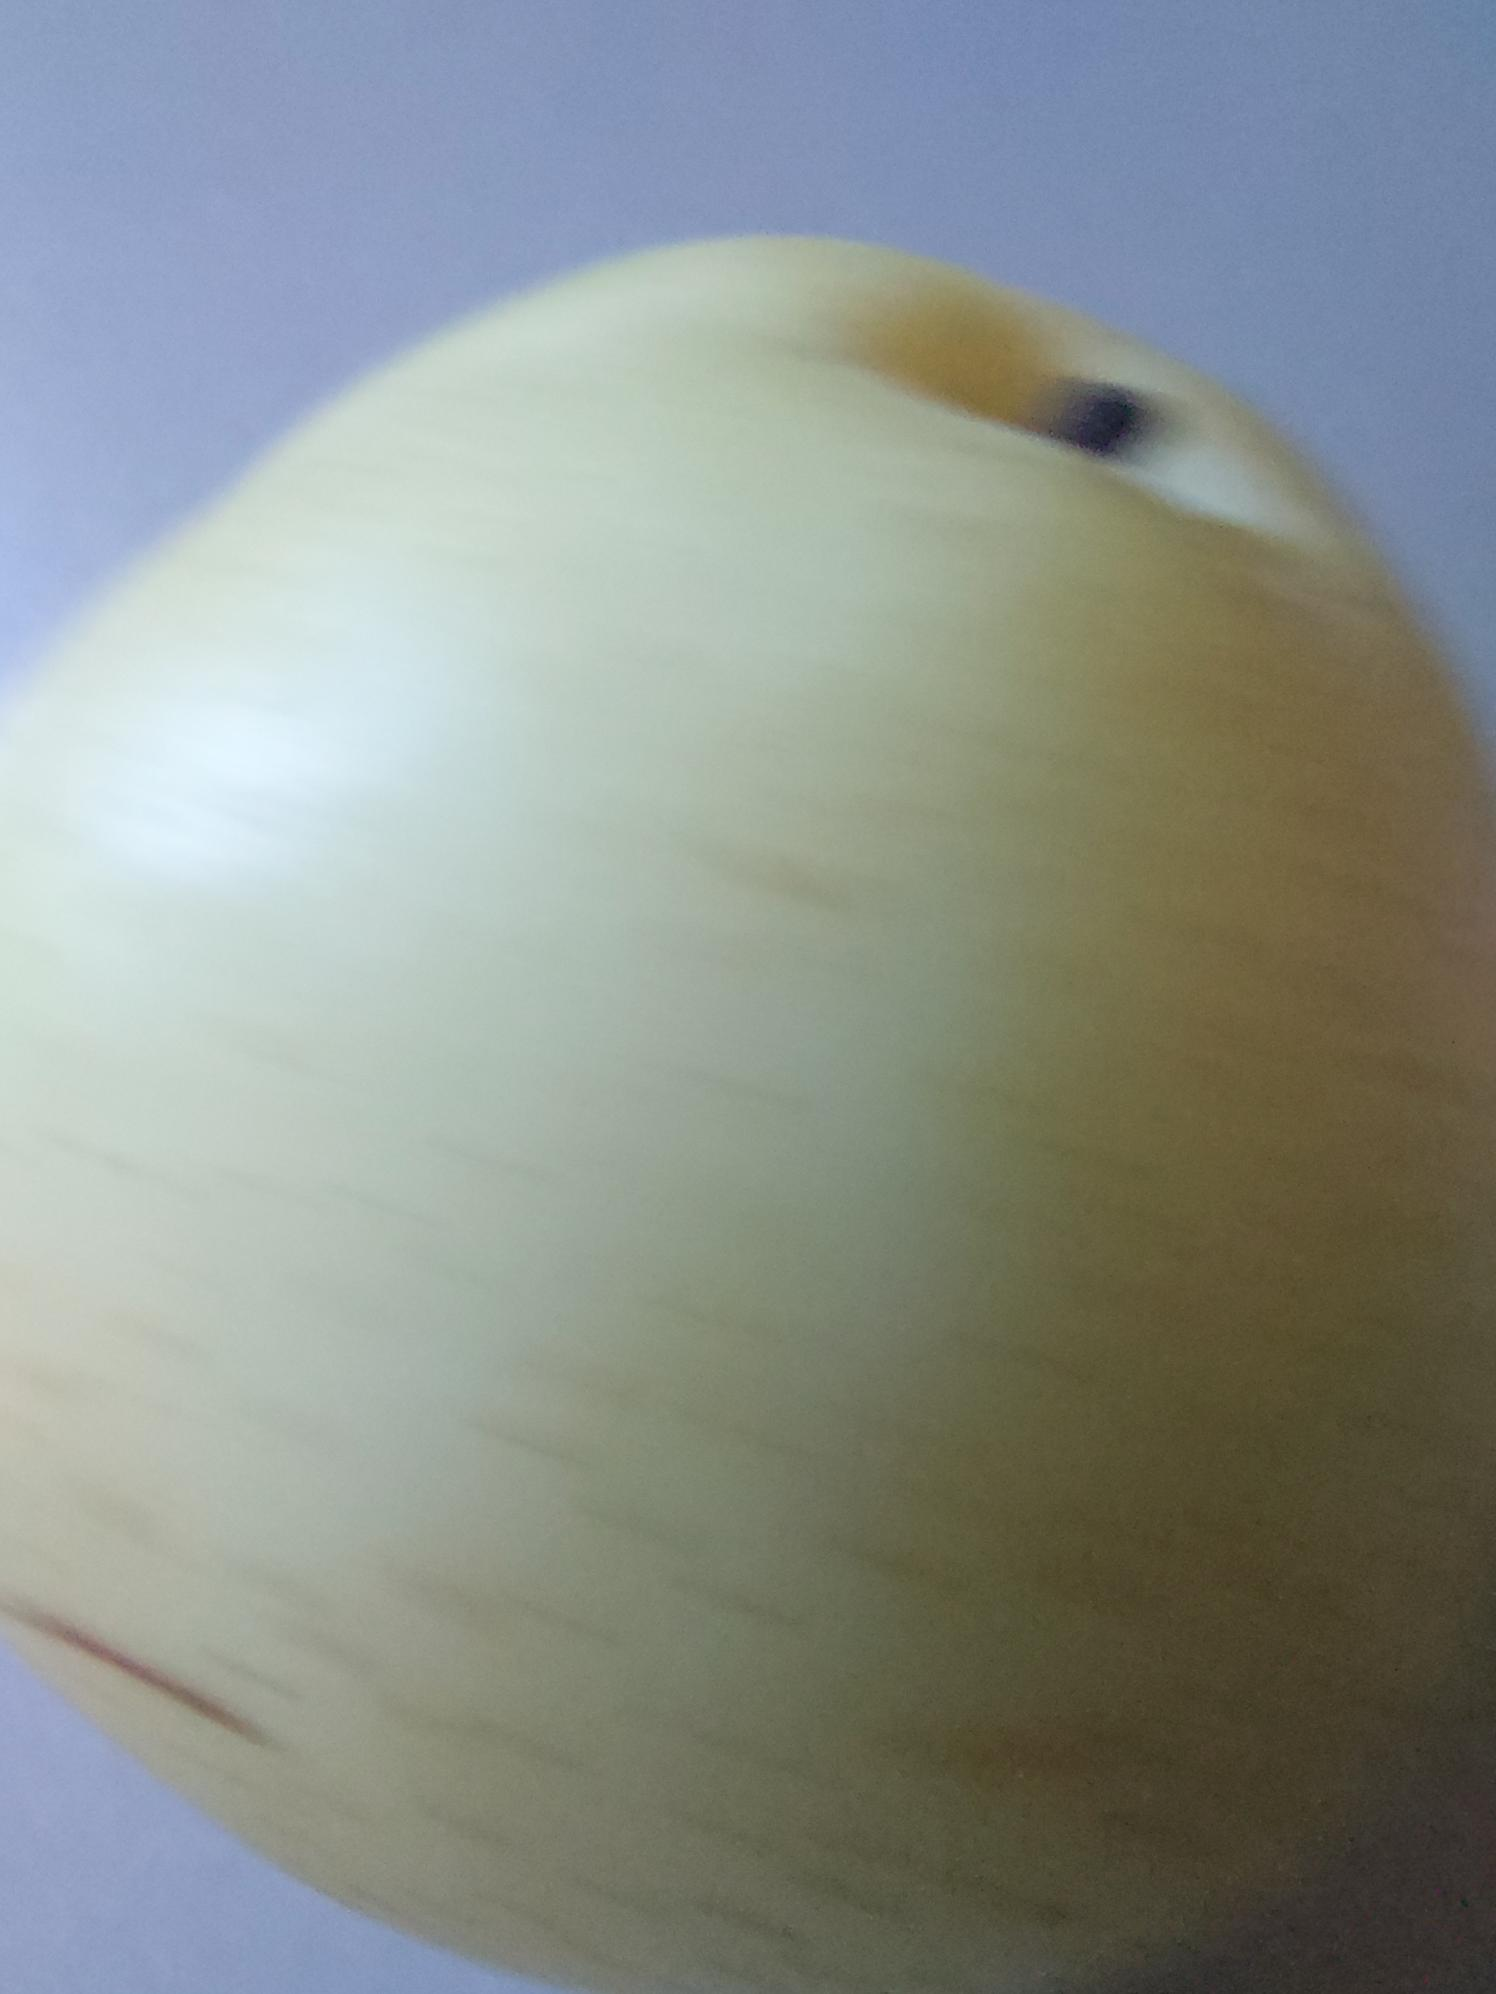Good Pear: (0, 99, 1496, 1994)
